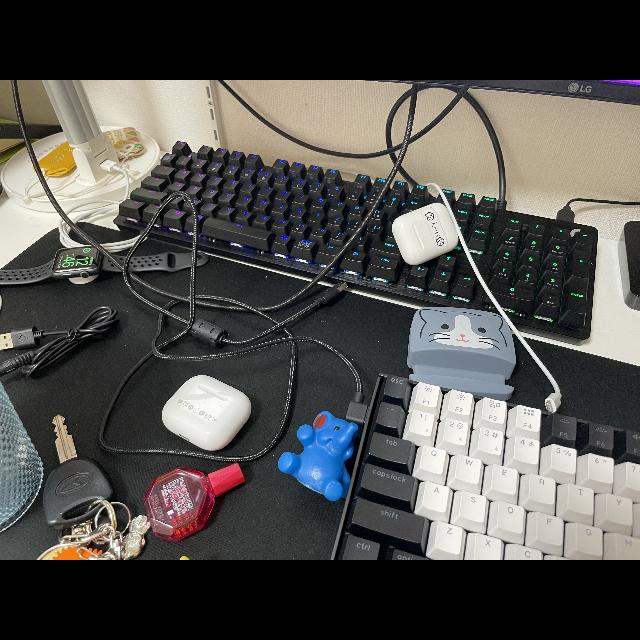airpod2: (390, 198, 462, 266)
airpod3: (157, 368, 259, 454)
